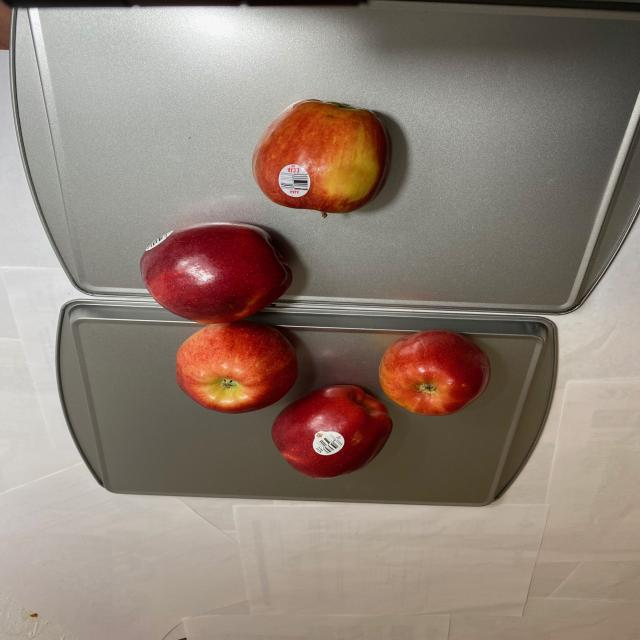apple: (135, 223, 492, 479), (252, 95, 400, 219)
